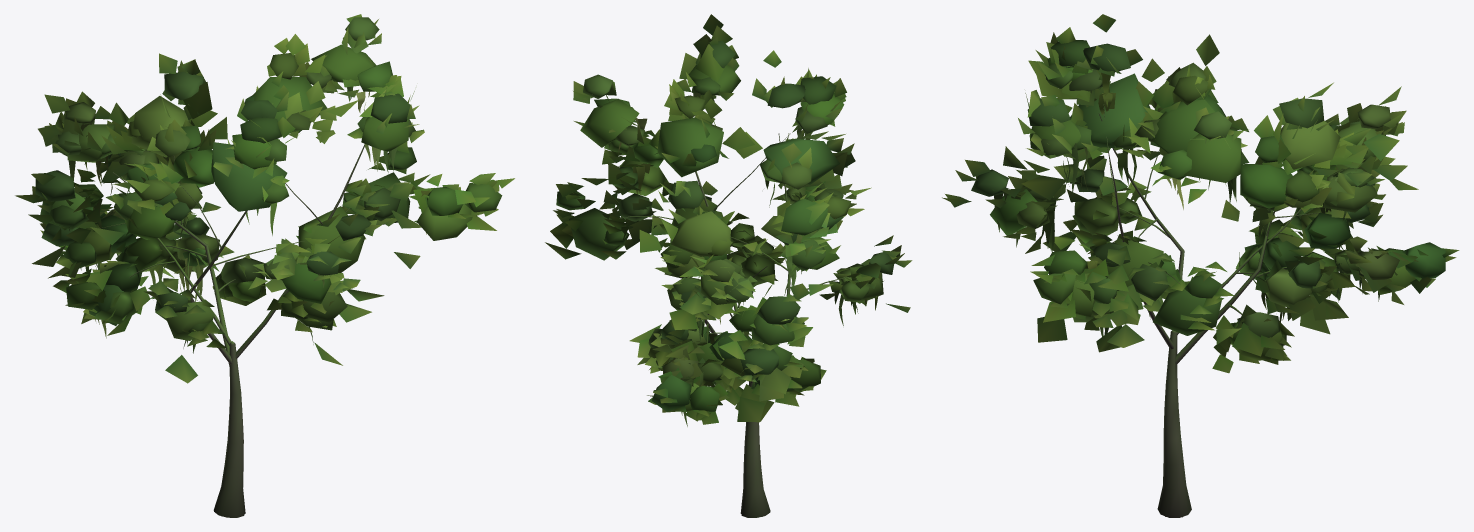
The model's file is bigleaf-maple.glb.
3 views of the same model, side by side, from view 1: azimuth 30°, elevation 25°; view 2: azimuth 150°, elevation 25°; view 3: azimuth 270°, elevation 25° (orthographic). The views are drawn at different scales.
Parts seen in each view (by area): view 1: bigleaf-maple, bigleaf-maple-lo; view 2: bigleaf-maple, bigleaf-maple-lo; view 3: bigleaf-maple, bigleaf-maple-lo.
Boxes of the visible parts, x1,y1,x2,y2 form: bigleaf-maple: [15, 14, 514, 517]; bigleaf-maple-lo: [28, 44, 496, 516]; bigleaf-maple: [553, 14, 912, 517]; bigleaf-maple-lo: [545, 25, 910, 516]; bigleaf-maple: [942, 14, 1459, 517]; bigleaf-maple-lo: [990, 58, 1418, 517].
Size of the model in its own units: 15.62 by 19.34 by 18.34.
